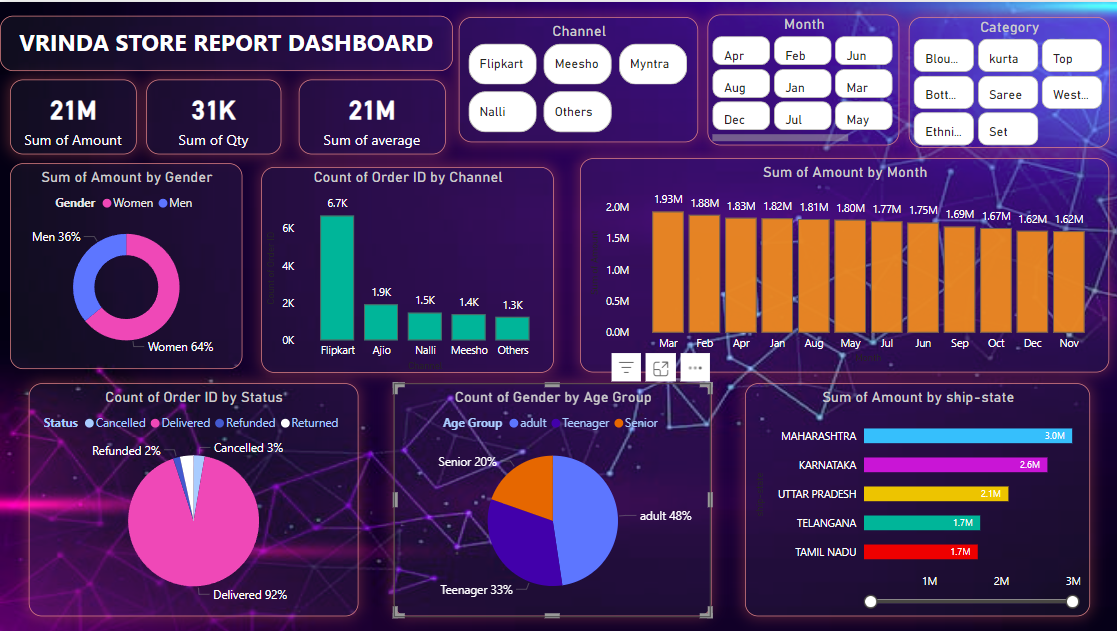

Layout of this report page (visuals, bound fields, positions):
{"tool":"powerbi","page":{"name":"Page 1","canvas":[1280,720],"ordinal":0},"visuals":[{"type":"columnChart","fields":{"Category":["Sheet1.Month"],"Y":["Sum(Sheet1.Amount)"]},"box":[662.3,178.6,604.4,244.9],"z":0},{"type":"donutChart","fields":{"Category":["Sheet1.Gender"],"Y":["Sum(Sheet1.Amount)"]},"box":[10.9,184.6,265.4,235.3],"z":1000},{"type":"pieChart","fields":{"Series":["Sheet1.Status"],"Y":["CountNonNull(Sheet1.Order ID)"]},"box":[32.6,435.5,376.4,266.6],"z":2000},{"type":"barChart","fields":{"Y":["Sum(Sheet1.Amount)"],"Category":["Sheet1.ship-state"]},"box":[851.7,435.5,394.5,266.6],"z":3000},{"type":"pieChart","fields":{"Category":["Sheet1.Age Group"],"Y":["CountNonNull(Sheet1.Gender)"]},"box":[450,435.5,363.1,266.6],"z":4000},{"type":"columnChart","fields":{"Category":["Sheet1.Channel "],"Y":["CountNonNull(Sheet1.Order ID)"]},"box":[298,188.2,334.2,235.3],"z":5000},{"type":"textbox","box":[0,15.1,517.3,63.1],"z":6000},{"type":"advancedSlicerVisual","fields":{"Values":["Sheet1.Channel "]},"box":[524.8,16.9,273.9,143.6],"z":7000},{"type":"card","fields":{"Values":["Sum(Sheet1.Amount)"]},"box":[10.9,89.3,144.8,85.7],"z":8000},{"type":"card","fields":{"Values":["Sum(Sheet1.Qty)"]},"box":[166.5,89.3,154.4,85.7],"z":9000},{"type":"card","fields":{"Values":["Sum(Sheet1.average)"]},"box":[341.4,89.3,167.7,85.7],"z":10000},{"type":"advancedSlicerVisual","fields":{"Values":["Sheet1.Month"]},"box":[808.3,14.5,219.6,149.6],"z":11000},{"type":"advancedSlicerVisual","fields":{"Values":["Sheet1.Category"]},"box":[1038.7,16.9,229.2,149.6],"z":12000}]}

Visuals, with their boxes in screenshot pixels (x1, y1, x2, y2), scaled from the page's 1280x720 canvas onto the 1117x631 screenshot:
columnChart - Sheet1.Month x Sum(Sheet1.Amount): left=578, top=157, right=1105, bottom=371
donutChart - Sheet1.Gender x Sum(Sheet1.Amount): left=10, top=162, right=241, bottom=368
pieChart - Sheet1.Status x CountNonNull(Sheet1.Order ID): left=28, top=382, right=357, bottom=615
barChart - Sum(Sheet1.Amount) x Sheet1.ship-state: left=743, top=382, right=1088, bottom=615
pieChart - Sheet1.Age Group x CountNonNull(Sheet1.Gender): left=393, top=382, right=710, bottom=615
columnChart - Sheet1.Channel  x CountNonNull(Sheet1.Order ID): left=260, top=165, right=552, bottom=371
textbox: left=0, top=13, right=451, bottom=69
advancedSlicerVisual - Sheet1.Channel : left=458, top=15, right=697, bottom=141
card - Sum(Sheet1.Amount): left=10, top=78, right=136, bottom=153
card - Sum(Sheet1.Qty): left=145, top=78, right=280, bottom=153
card - Sum(Sheet1.average): left=298, top=78, right=444, bottom=153
advancedSlicerVisual - Sheet1.Month: left=705, top=13, right=897, bottom=144
advancedSlicerVisual - Sheet1.Category: left=906, top=15, right=1106, bottom=146
